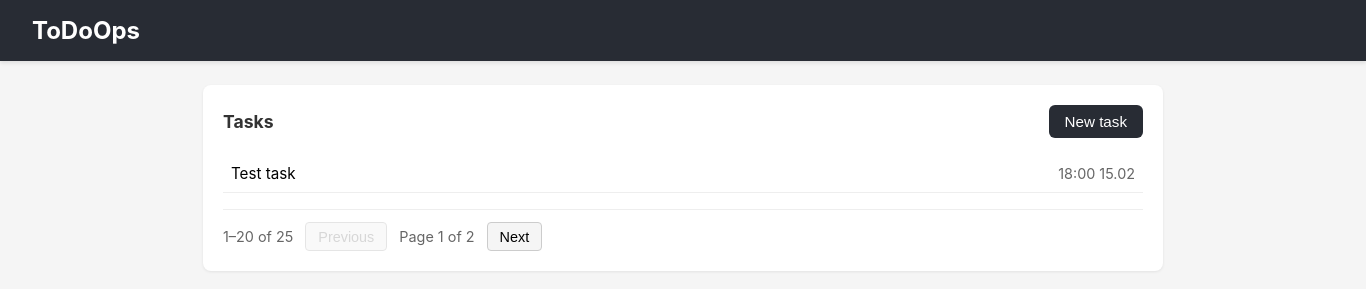
Test: App › pagination loads next page
Expected: the text "Test task" is shown, [231,164,296,183]
Step 1. Click the button "Next" → (514, 237), box [487,222,542,251]
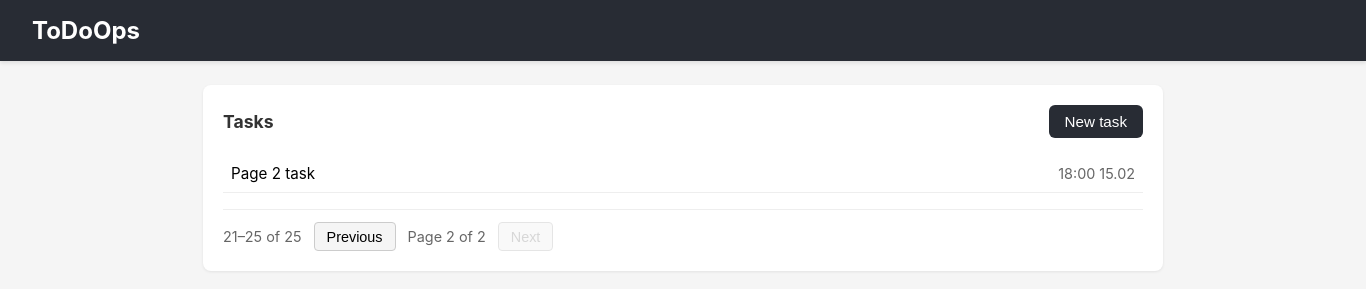
Expected: the text "Page 2 task" is shown, [231,164,315,183]
